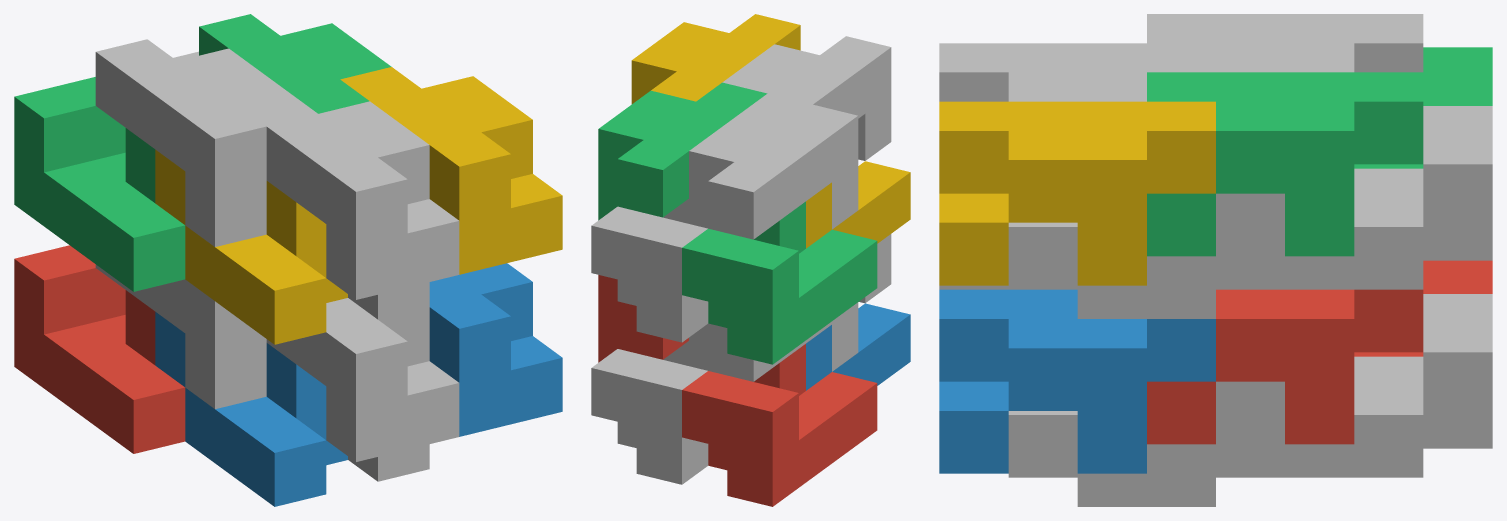
The model's file is tiling.obj.
The picture shows the model from 3 angles, left to right: view 1: azimuth 30°, elevation 25°; view 2: azimuth 150°, elevation 25°; view 3: azimuth 270°, elevation 25°; orthographic projection. The views are drawn at different scales.
Visible parts, largest first — view 1: copy_2_domain_4, copy_1_domain_3, copy_1_domain_1, copy_2_domain_3, copy_2_domain_8, copy_2_domain_2, copy_2_domain_6, copy_1_domain_4, copy_1_domain_2, copy_2_domain_7, copy_2_domain_1, copy_1_domain_6 (+1 smaller); view 2: copy_1_domain_3, copy_1_domain_1, copy_2_domain_3, copy_2_domain_7, copy_2_domain_4, copy_1_domain_5, copy_1_domain_7, copy_2_domain_8, copy_1_domain_4, copy_1_domain_2, copy_2_domain_1, copy_2_domain_5 (+1 smaller); view 3: copy_2_domain_8, copy_2_domain_6, copy_2_domain_7, copy_2_domain_5, copy_1_domain_5, copy_1_domain_7, copy_1_domain_8, copy_1_domain_6, copy_2_domain_4, copy_2_domain_3, copy_1_domain_3, copy_1_domain_1.
Boxes of the visible parts, x1=… form: copy_2_domain_4: x1=237, y1=92, x2=459, y2=299; copy_1_domain_3: x1=14, y1=77, x2=185, y2=291; copy_1_domain_1: x1=14, y1=245, x2=185, y2=453; copy_2_domain_3: x1=95, y1=39, x2=287, y2=246; copy_2_domain_8: x1=340, y1=67, x2=562, y2=274; copy_2_domain_2: x1=266, y1=298, x2=459, y2=461; copy_2_domain_6: x1=429, y1=263, x2=562, y2=436; copy_1_domain_4: x1=155, y1=149, x2=347, y2=344; copy_1_domain_2: x1=155, y1=312, x2=347, y2=506; copy_2_domain_7: x1=199, y1=14, x2=391, y2=113; copy_2_domain_1: x1=95, y1=264, x2=266, y2=409; copy_1_domain_6: x1=348, y1=444, x2=429, y2=481; copy_1_domain_3: x1=682, y1=201, x2=877, y2=364; copy_1_domain_1: x1=682, y1=344, x2=877, y2=506; copy_2_domain_3: x1=689, y1=104, x2=858, y2=239; copy_2_domain_7: x1=598, y1=82, x2=767, y2=220; copy_2_domain_4: x1=722, y1=36, x2=891, y2=160; copy_1_domain_5: x1=591, y1=341, x2=708, y2=484; copy_1_domain_7: x1=591, y1=199, x2=708, y2=342; copy_2_domain_8: x1=631, y1=14, x2=800, y2=103; copy_1_domain_4: x1=806, y1=161, x2=910, y2=248; copy_1_domain_2: x1=806, y1=303, x2=910, y2=390; copy_2_domain_1: x1=689, y1=302, x2=858, y2=381; copy_2_domain_5: x1=598, y1=275, x2=688, y2=362; copy_2_domain_8: x1=939, y1=101, x2=1215, y2=285; copy_2_domain_6: x1=939, y1=289, x2=1215, y2=473; copy_2_domain_7: x1=1147, y1=72, x2=1423, y2=256; copy_2_domain_5: x1=1147, y1=289, x2=1423, y2=444; copy_1_domain_5: x1=1285, y1=294, x2=1492, y2=477; copy_1_domain_7: x1=1285, y1=106, x2=1492, y2=289; copy_1_domain_8: x1=1008, y1=193, x2=1284, y2=318; copy_1_domain_6: x1=1008, y1=381, x2=1284, y2=506; copy_2_domain_4: x1=939, y1=43, x2=1215, y2=101; copy_2_domain_3: x1=1147, y1=14, x2=1423, y2=72; copy_1_domain_3: x1=1354, y1=47, x2=1492, y2=168; copy_1_domain_1: x1=1354, y1=260, x2=1492, y2=356.
Size of the model in its own units: 6 by 6 by 8.
